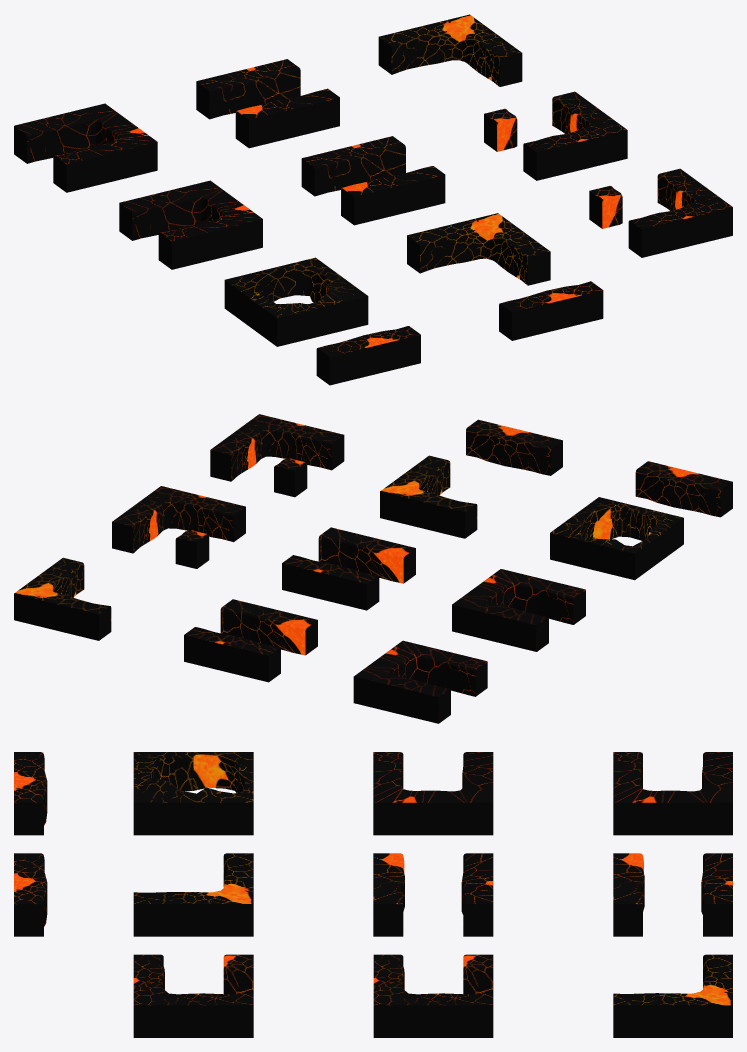
File: lava_road.fbx
3 views of the same model, one above another, from view 1: azimuth 30°, elevation 25°; view 2: azimuth 150°, elevation 25°; view 3: azimuth 270°, elevation 25° (orthographic). The views are drawn at different scales.
Parts seen in each view (by area): view 1: crater, U_side, U_side_pivotVariant, two_side_pivotVariant, two_side, double_angle, double_angle_pivotVariant, angle_pivotVariant, angle, one_side, one_side_pivotVariant; view 2: crater, U_side_pivotVariant, U_side, two_side, two_side_pivotVariant, double_angle, double_angle_pivotVariant, angle_pivotVariant, angle, one_side_pivotVariant, one_side; view 3: crater, U_side, double_angle, double_angle_pivotVariant, U_side_pivotVariant, angle, angle_pivotVariant, two_side, two_side_pivotVariant, one_side_pivotVariant, one_side.
Part boxes in pixels (x1,y1,x2,y2): crater: [224, 257, 368, 346]; U_side: [119, 180, 262, 269]; U_side_pivotVariant: [14, 103, 157, 192]; two_side_pivotVariant: [196, 59, 339, 148]; two_side: [301, 136, 445, 225]; double_angle: [589, 168, 732, 257]; double_angle_pivotVariant: [484, 91, 627, 180]; angle_pivotVariant: [378, 14, 522, 86]; angle: [407, 213, 550, 285]; one_side: [499, 281, 603, 340]; one_side_pivotVariant: [316, 326, 420, 385]; crater: [550, 497, 683, 580]; U_side_pivotVariant: [353, 640, 487, 723]; U_side: [452, 569, 585, 651]; two_side: [282, 527, 415, 610]; two_side_pivotVariant: [184, 599, 317, 682]; double_angle: [210, 414, 344, 497]; double_angle_pivotVariant: [112, 486, 245, 568]; angle_pivotVariant: [14, 557, 111, 640]; angle: [380, 455, 477, 538]; one_side_pivotVariant: [635, 461, 732, 517]; one_side: [466, 419, 562, 475]; crater: [133, 752, 253, 835]; U_side: [373, 752, 493, 835]; double_angle: [133, 954, 253, 1037]; double_angle_pivotVariant: [373, 954, 493, 1037]; U_side_pivotVariant: [613, 752, 732, 835]; angle: [133, 853, 253, 936]; angle_pivotVariant: [613, 954, 732, 1037]; two_side: [373, 853, 493, 936]; two_side_pivotVariant: [613, 853, 732, 936]; one_side_pivotVariant: [14, 752, 47, 835]; one_side: [14, 853, 47, 936].
Bounding box in the file's own units: 500 × 37.66 × 600.
